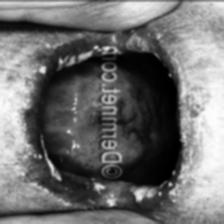Toxin: (54, 48, 96, 72), (130, 183, 163, 201)
